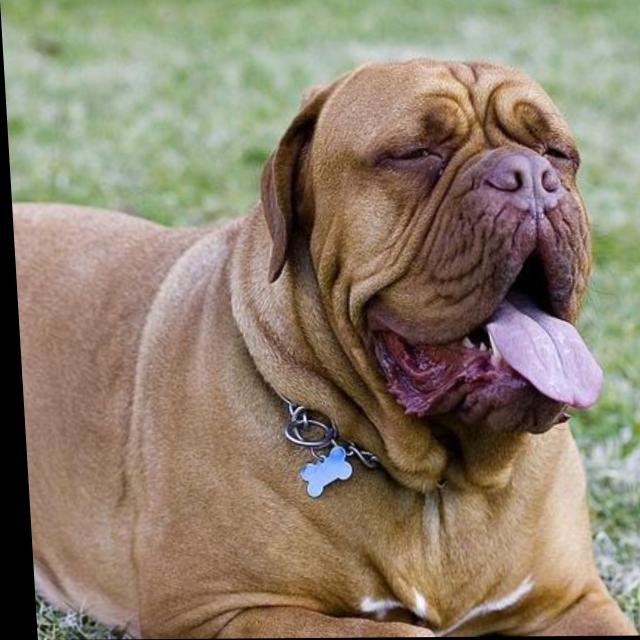bullmastiff: (4, 55, 640, 640)
